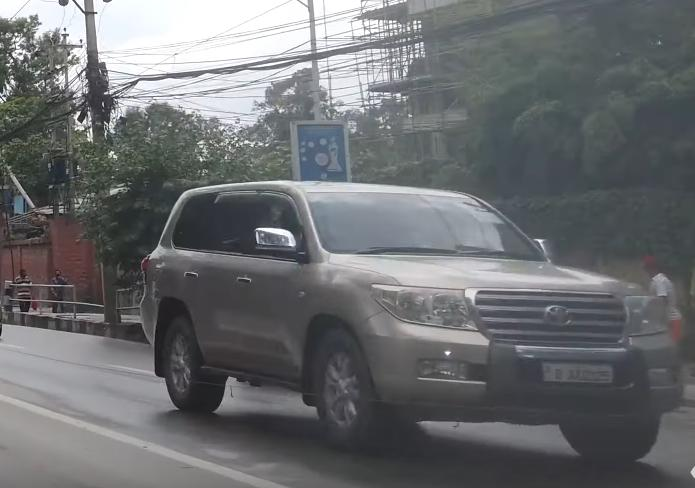SUV: (129, 178, 683, 464)
